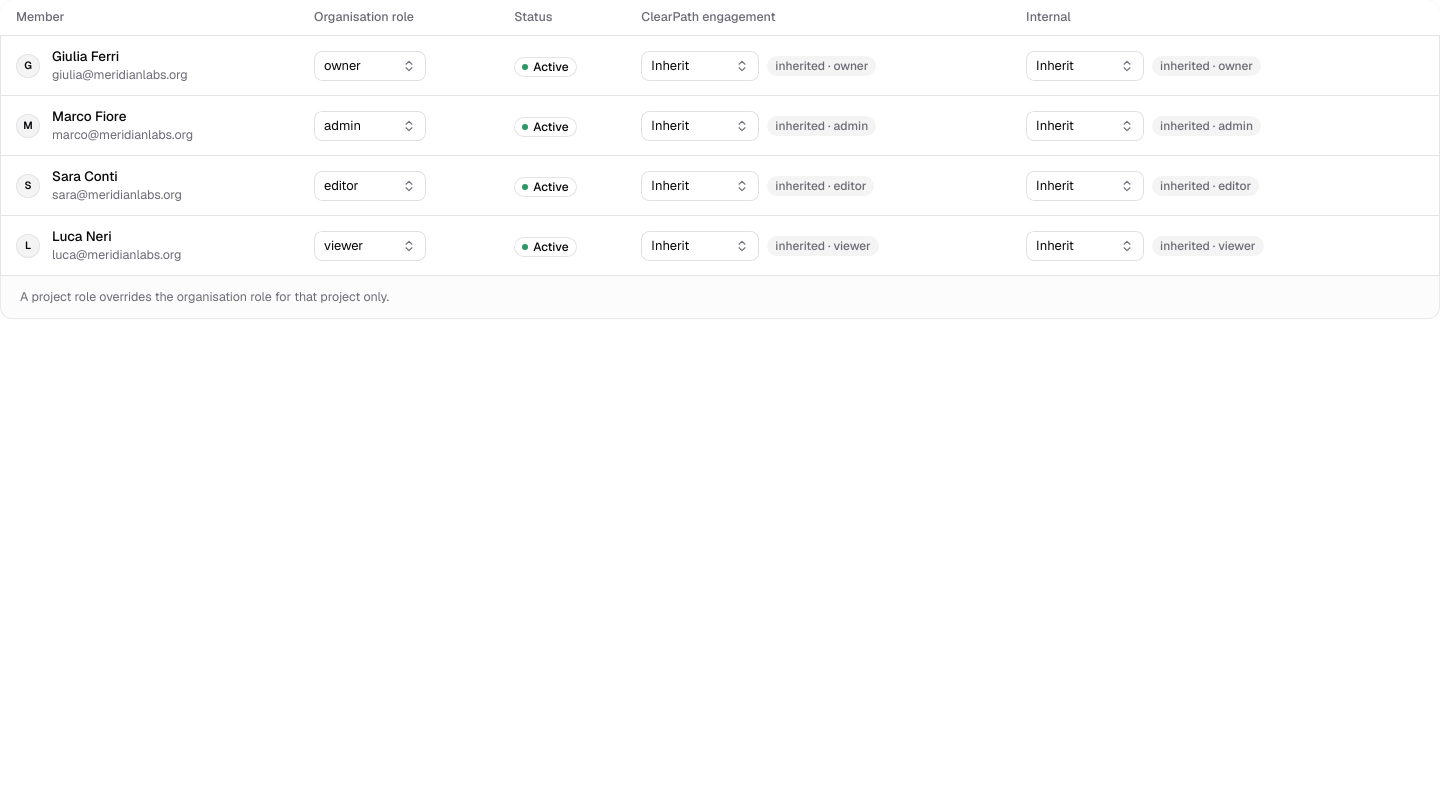
Test: MembersTab › changing a project role › says why when the backend refuses, does not refresh and loads the project roles again
Expected: the text "Luca Neri" is shown, [52,227,112,245]
Select "editor" in the dropdown named "ClearPath engagement" in the row of "Luca Neri" at point(700, 246), box [641,230,759,260]
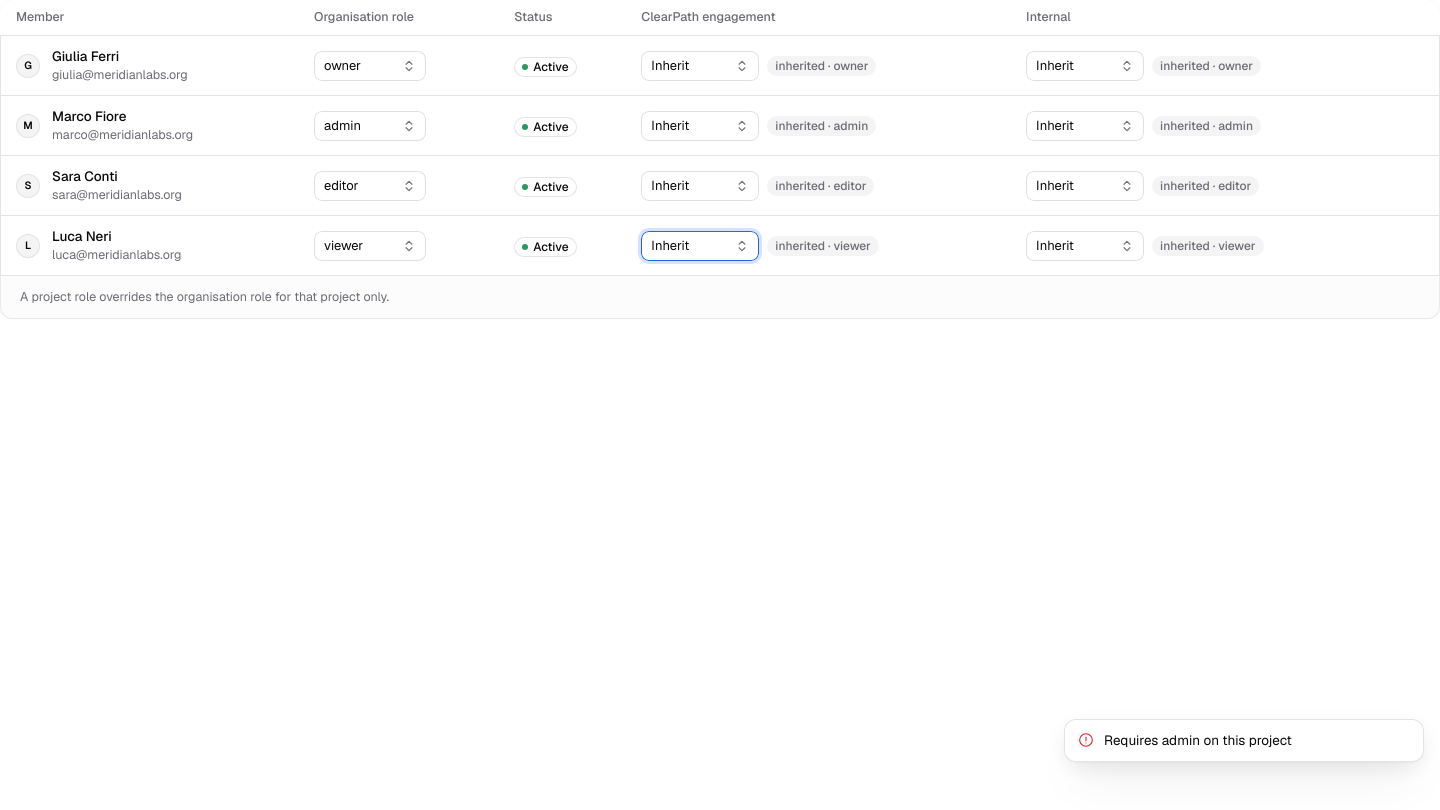
Now the text "Requires admin on this project" is shown, box [1104,731,1292,749]
